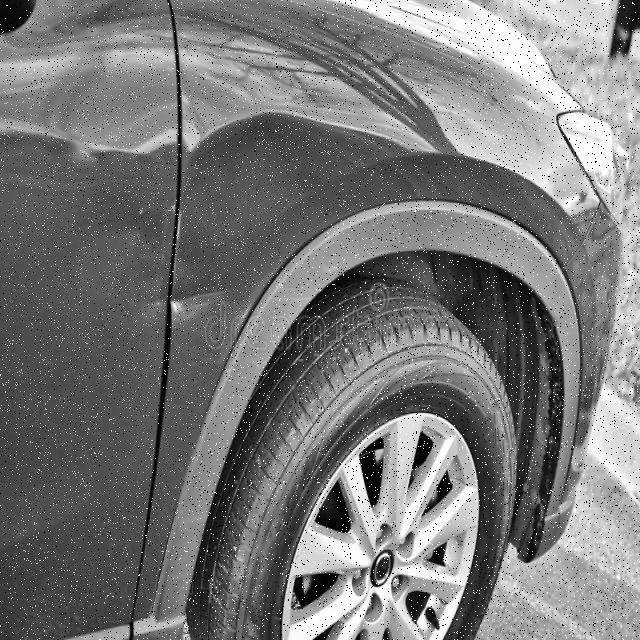fender-dent: (179, 89, 568, 376)
